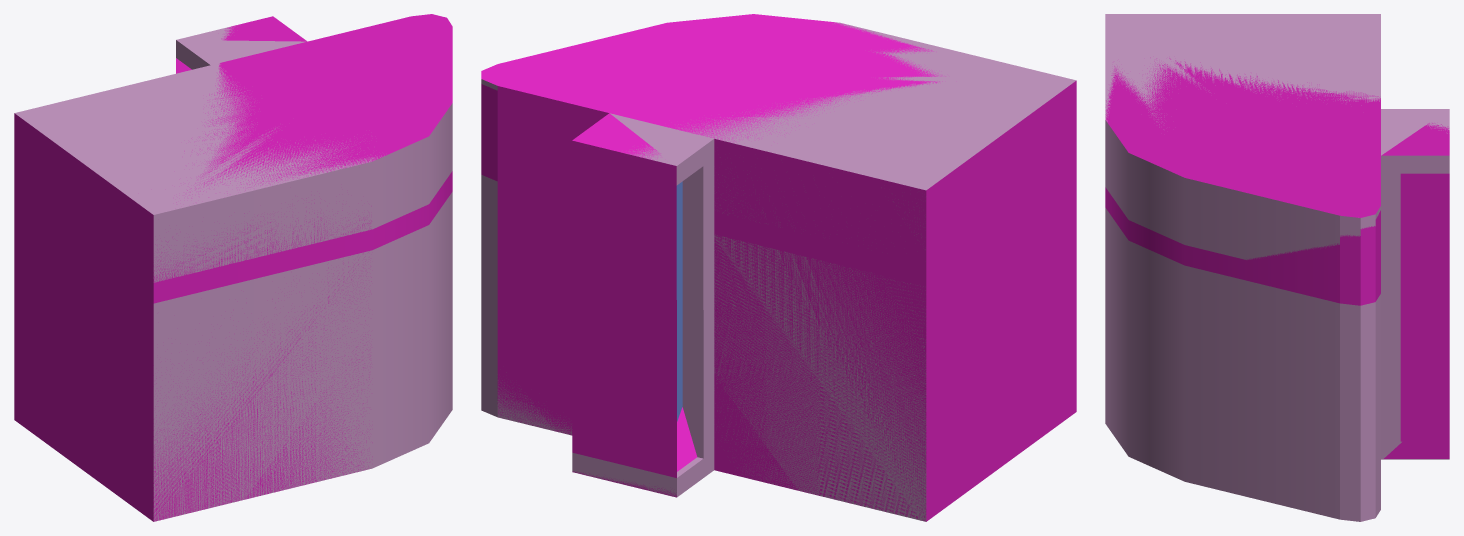
File: building10.fbx
The picture shows the model from 3 angles, left to right: view 1: azimuth 30°, elevation 25°; view 2: azimuth 150°, elevation 25°; view 3: azimuth 270°, elevation 25°; orthographic projection. The views are drawn at different scales.
Parts seen in each view (by area): view 1: building10_MESH, building10_COL; view 2: building10_COL, building10_MESH; view 3: building10_MESH, building10_COL.
Part boxes in pixels (x1,y1,x2,y2): building10_MESH: (14, 25, 452, 521); building10_COL: (14, 14, 452, 521); building10_COL: (481, 14, 1076, 521); building10_MESH: (481, 22, 1076, 521); building10_MESH: (1105, 14, 1449, 521); building10_COL: (1105, 57, 1449, 458).
Bounding box in the file's own units: 1072 × 764 × 744.
